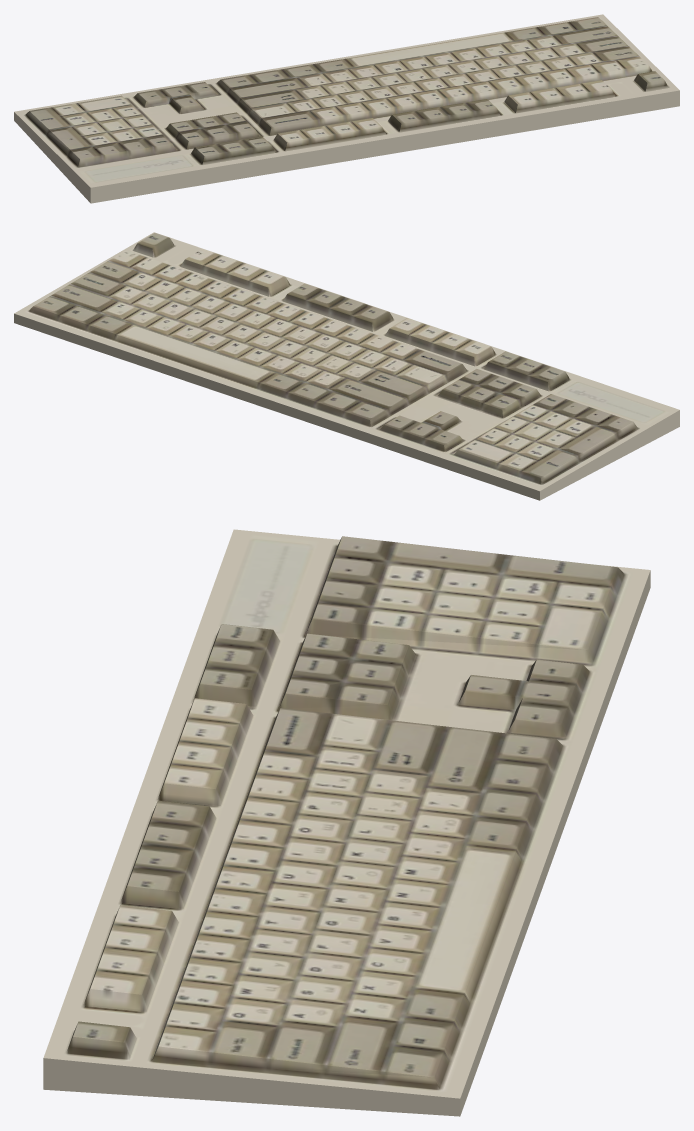
The model's file is keyboard.fbx.
The picture shows the model from 3 angles, top to bottom: view 1: azimuth 30°, elevation 25°; view 2: azimuth 150°, elevation 25°; view 3: azimuth 270°, elevation 25°; orthographic projection. The views are drawn at different scales.
Visible parts, largest first — view 1: keyboard005; view 2: keyboard005; view 3: keyboard005.
Part boxes in pixels (x1,y1,x2,y2): keyboard005: (14,14,679,203); keyboard005: (14,232,679,500); keyboard005: (43,529,650,1116).
Bounding box in the file's own units: 40.21 × 1.53 × 18.58.
Materials: 1 (1 with a texture image).
